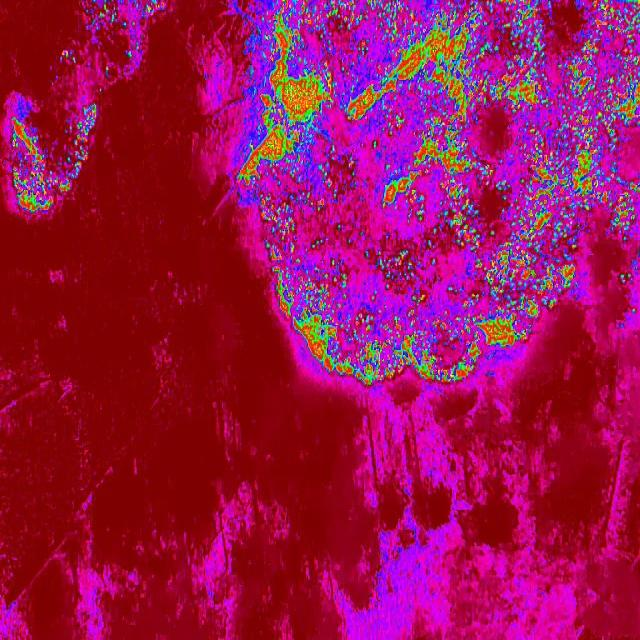fire: (229, 0, 640, 238), (264, 237, 592, 309), (286, 308, 539, 392), (0, 91, 100, 220), (78, 0, 160, 80), (621, 265, 640, 325)
